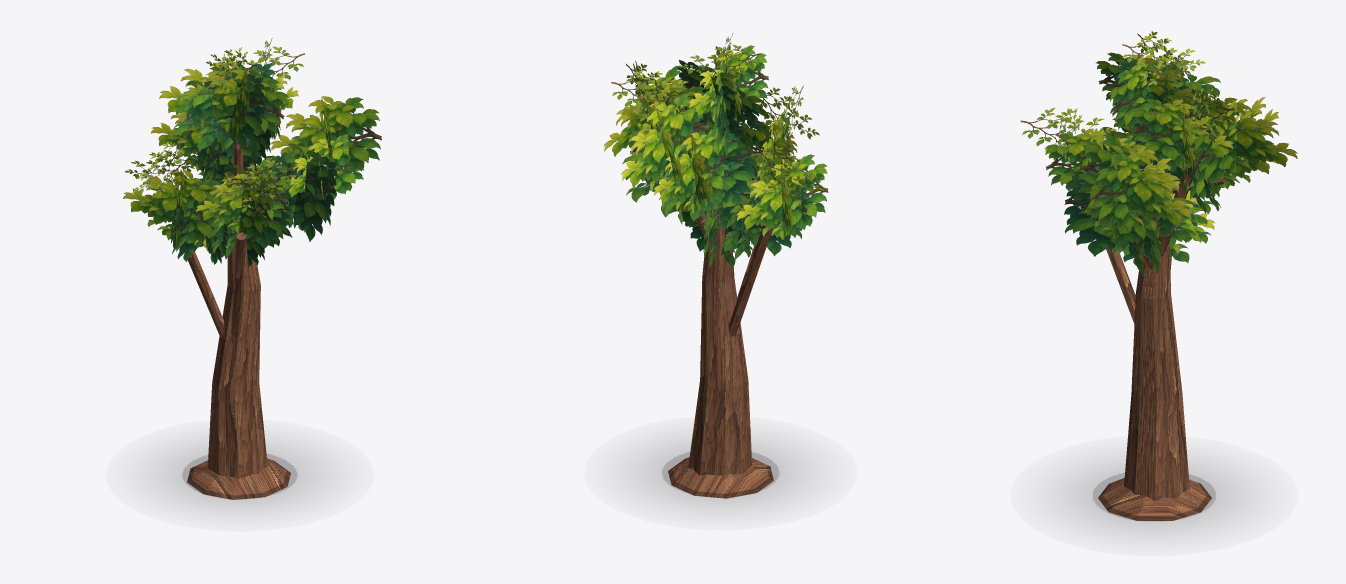
The model's file is tree-broadleaf-tall.glb.
3 views of the same model, side by side, from view 1: azimuth 30°, elevation 25°; view 2: azimuth 150°, elevation 25°; view 3: azimuth 270°, elevation 25° (orthographic). The views are drawn at different scales.
Parts seen in each view (by area): view 1: trunk, leafcard.012, leafcard.004, ContactShadow, leafcard.008, flare, leafcard.034, leafcard.032, leafcard.022, leafcard.009, leafcard.031, leafcard.021 (+16 smaller); view 2: trunk, leafcard.003, leafcard.017, ContactShadow, leafcard.015, flare, leafcard.032, leafcard.033, leafcard.013, leafcard.001, branch.001, leafcard.011 (+15 smaller); view 3: trunk, leafcard.011, ContactShadow, leafcard.028, leafcard.012, flare, leafcard.017, leafcard.008, leafcard.018, leafcard.034, leafcard.021, leafcard.033 (+12 smaller).
Part boxes in pixels (left/top/right/bottom): trunk: left=207, top=242, right=267, bottom=478; leafcard.012: left=270, top=96, right=381, bottom=173; leafcard.004: left=123, top=170, right=221, bottom=243; ContactShadow: left=168, top=447, right=311, bottom=505; leafcard.008: left=266, top=143, right=337, bottom=241; flare: left=187, top=458, right=290, bottom=499; leafcard.034: left=187, top=68, right=289, bottom=135; leafcard.032: left=173, top=63, right=275, bottom=151; leafcard.022: left=196, top=170, right=288, bottom=232; leafcard.009: left=289, top=134, right=364, bottom=198; leafcard.031: left=183, top=67, right=265, bottom=150; leafcard.021: left=211, top=172, right=273, bottom=237; trunk: left=688, top=211, right=752, bottom=475; leafcard.003: left=736, top=154, right=828, bottom=239; leafcard.017: left=621, top=93, right=709, bottom=190; ContactShadow: left=647, top=445, right=793, bottom=503; leafcard.015: left=653, top=127, right=729, bottom=213; flare: left=668, top=457, right=773, bottom=498; leafcard.032: left=677, top=60, right=771, bottom=149; leafcard.033: left=689, top=45, right=768, bottom=121; leafcard.013: left=660, top=132, right=757, bottom=221; leafcard.001: left=701, top=180, right=809, bottom=256; branch.001: left=729, top=224, right=773, bottom=336; leafcard.011: left=603, top=65, right=681, bottom=156; trunk: left=1124, top=228, right=1189, bottom=501; leafcard.011: left=1079, top=134, right=1192, bottom=229; ContactShadow: left=1077, top=466, right=1230, bottom=527; leafcard.028: left=1131, top=98, right=1233, bottom=170; leafcard.012: left=1090, top=147, right=1180, bottom=228; flare: left=1098, top=478, right=1211, bottom=520; leafcard.017: left=1181, top=92, right=1297, bottom=174; leafcard.008: left=1064, top=176, right=1195, bottom=260; leafcard.018: left=1194, top=97, right=1278, bottom=183; leafcard.034: left=1109, top=53, right=1188, bottom=129; leafcard.021: left=1044, top=128, right=1129, bottom=191; leafcard.033: left=1096, top=52, right=1195, bottom=105.
Size of the model in its own units: 3.4 by 5.08 by 3.4.
Materials: 5 (5 with a texture image).
